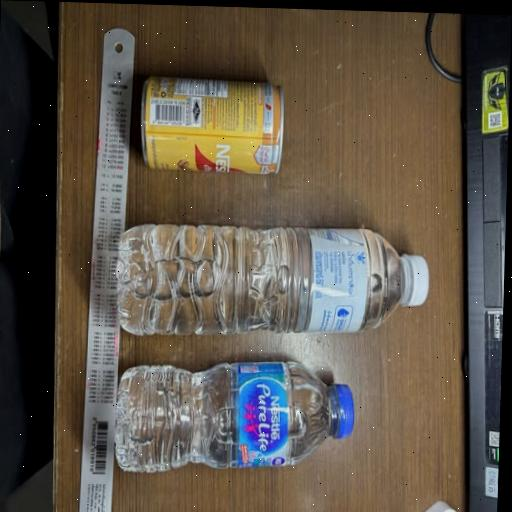ba: (107, 204, 442, 355), (99, 350, 366, 498)
bottle: (123, 58, 300, 192)
